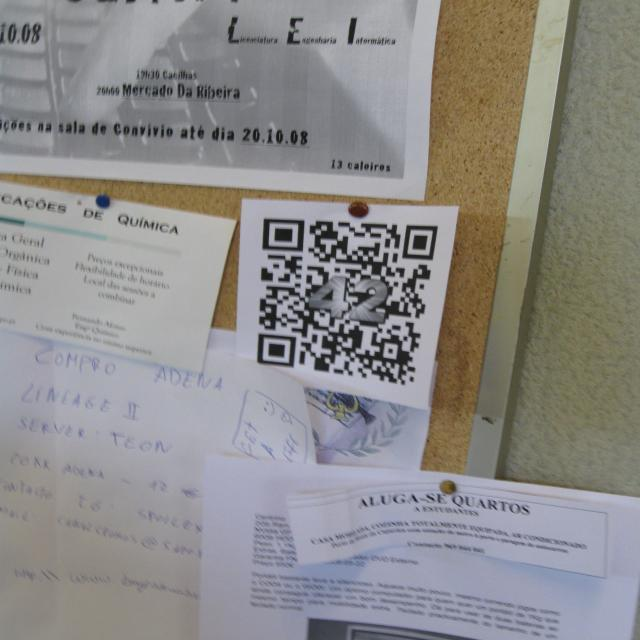qr-code: (257, 218, 438, 388)
